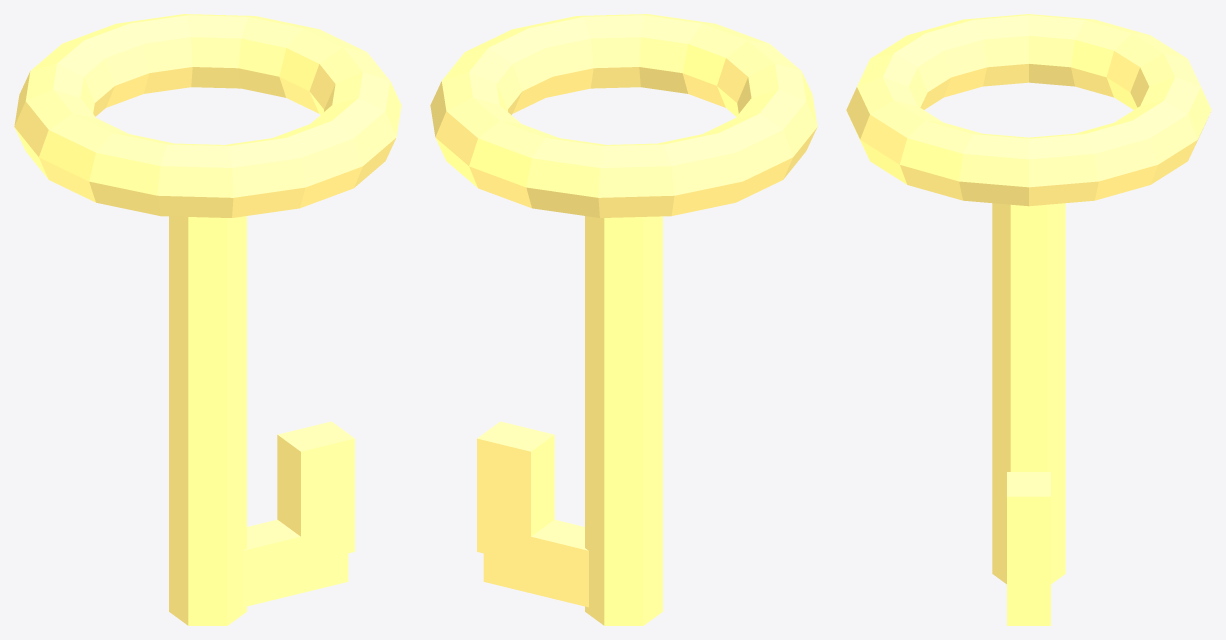
The model's file is key.glb.
3 views of the same model, side by side, from view 1: azimuth 30°, elevation 25°; view 2: azimuth 150°, elevation 25°; view 3: azimuth 270°, elevation 25° (orthographic). The views are drawn at different scales.
Parts seen in each view (by area): view 1: KeyRing; view 2: KeyRing; view 3: KeyRing.
Boxes of the visible parts, x1,y1,x2,y2 form: KeyRing: (14, 14, 401, 625); KeyRing: (430, 14, 817, 625); KeyRing: (846, 14, 1211, 625).
Size of the model in its own units: 0.5 by 0.75 by 0.5.
